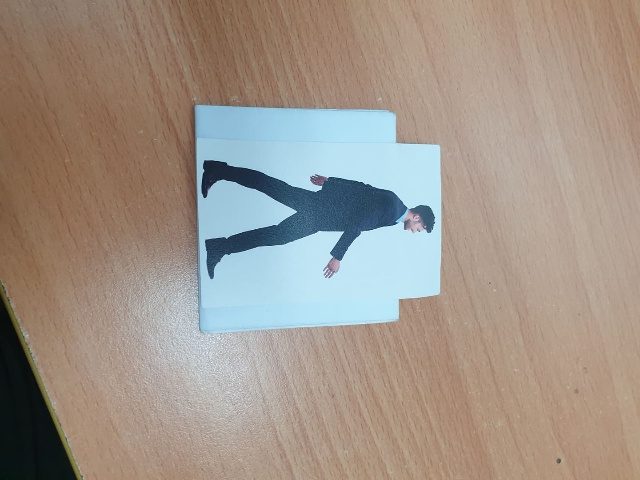Person: (197, 162, 437, 282)
